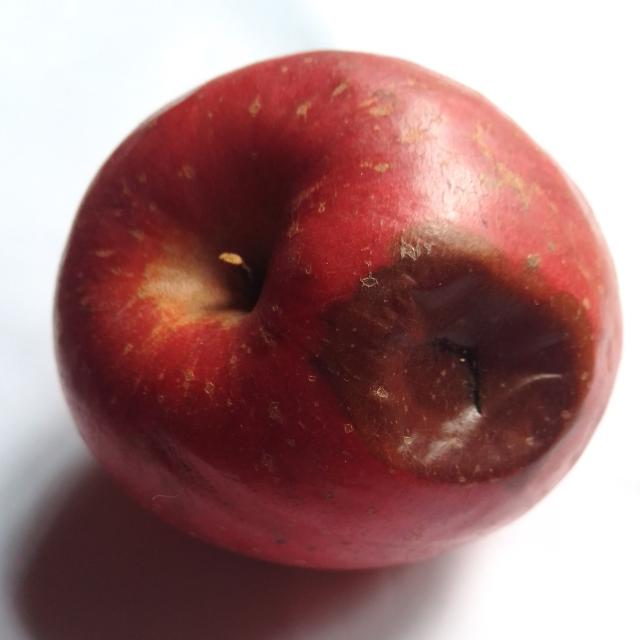apple: (55, 52, 621, 568)
